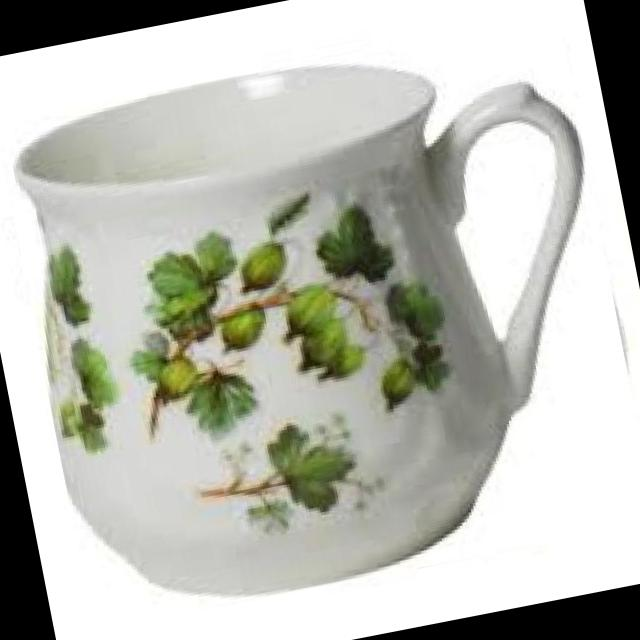Coffee Mug: (1, 13, 640, 628)
